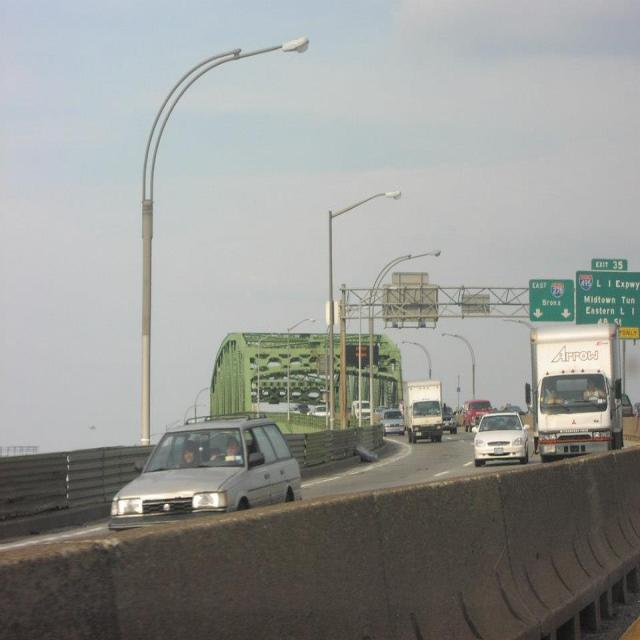Electric pole: (141, 36, 309, 445), (329, 191, 402, 429)
